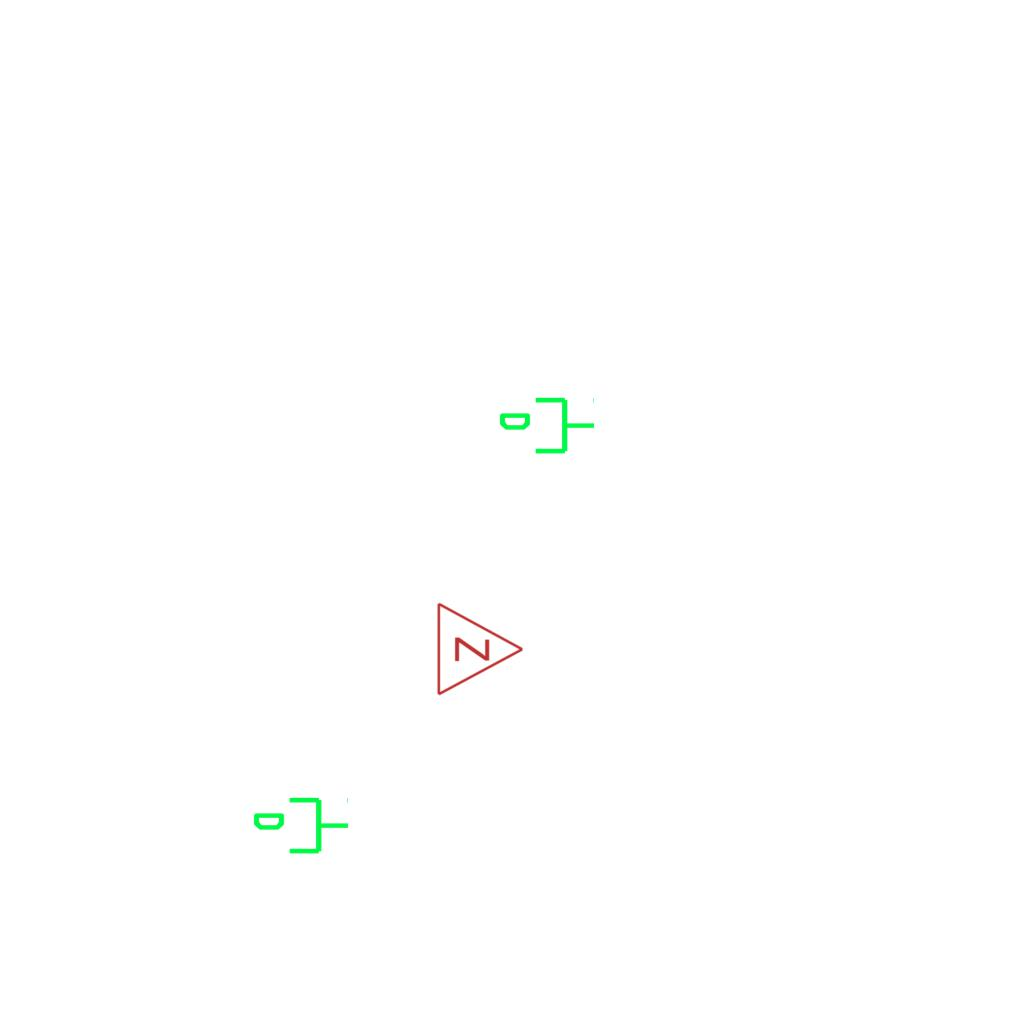Datenanschluss_einfach: (497, 393, 597, 462), (251, 793, 351, 862)
Zimmersignalleuchte: (430, 599, 530, 697)
